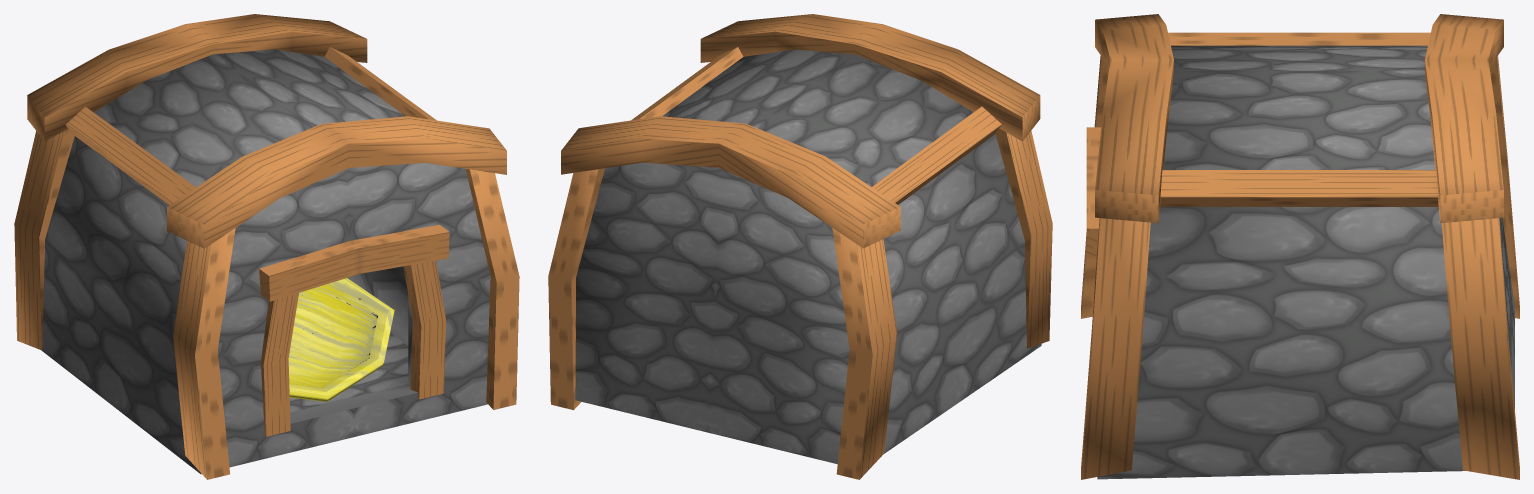
Rendered from Den_HandObject.fbx.
3 renders of one model, left to right at view 1: azimuth 30°, elevation 25°; view 2: azimuth 150°, elevation 25°; view 3: azimuth 270°, elevation 25°, orthographic. The views are drawn at different scales.
Parts seen in each view (by area): view 1: Coop, FlowerPot (2); view 2: Coop; view 3: Coop.
Part boxes in pixels (x1,y1,x2,y2): Coop: (14,14,519,479); FlowerPot (2): (288,278,394,401); Coop: (548,14,1052,479); Coop: (1081,14,1519,479).
Size of the model in its own units: 1.32 by 1.13 by 1.34.
